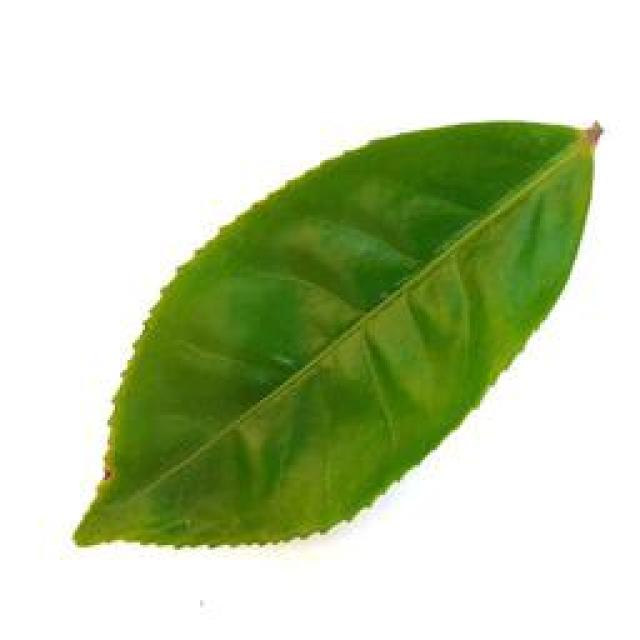Healthy: (68, 114, 605, 555)
